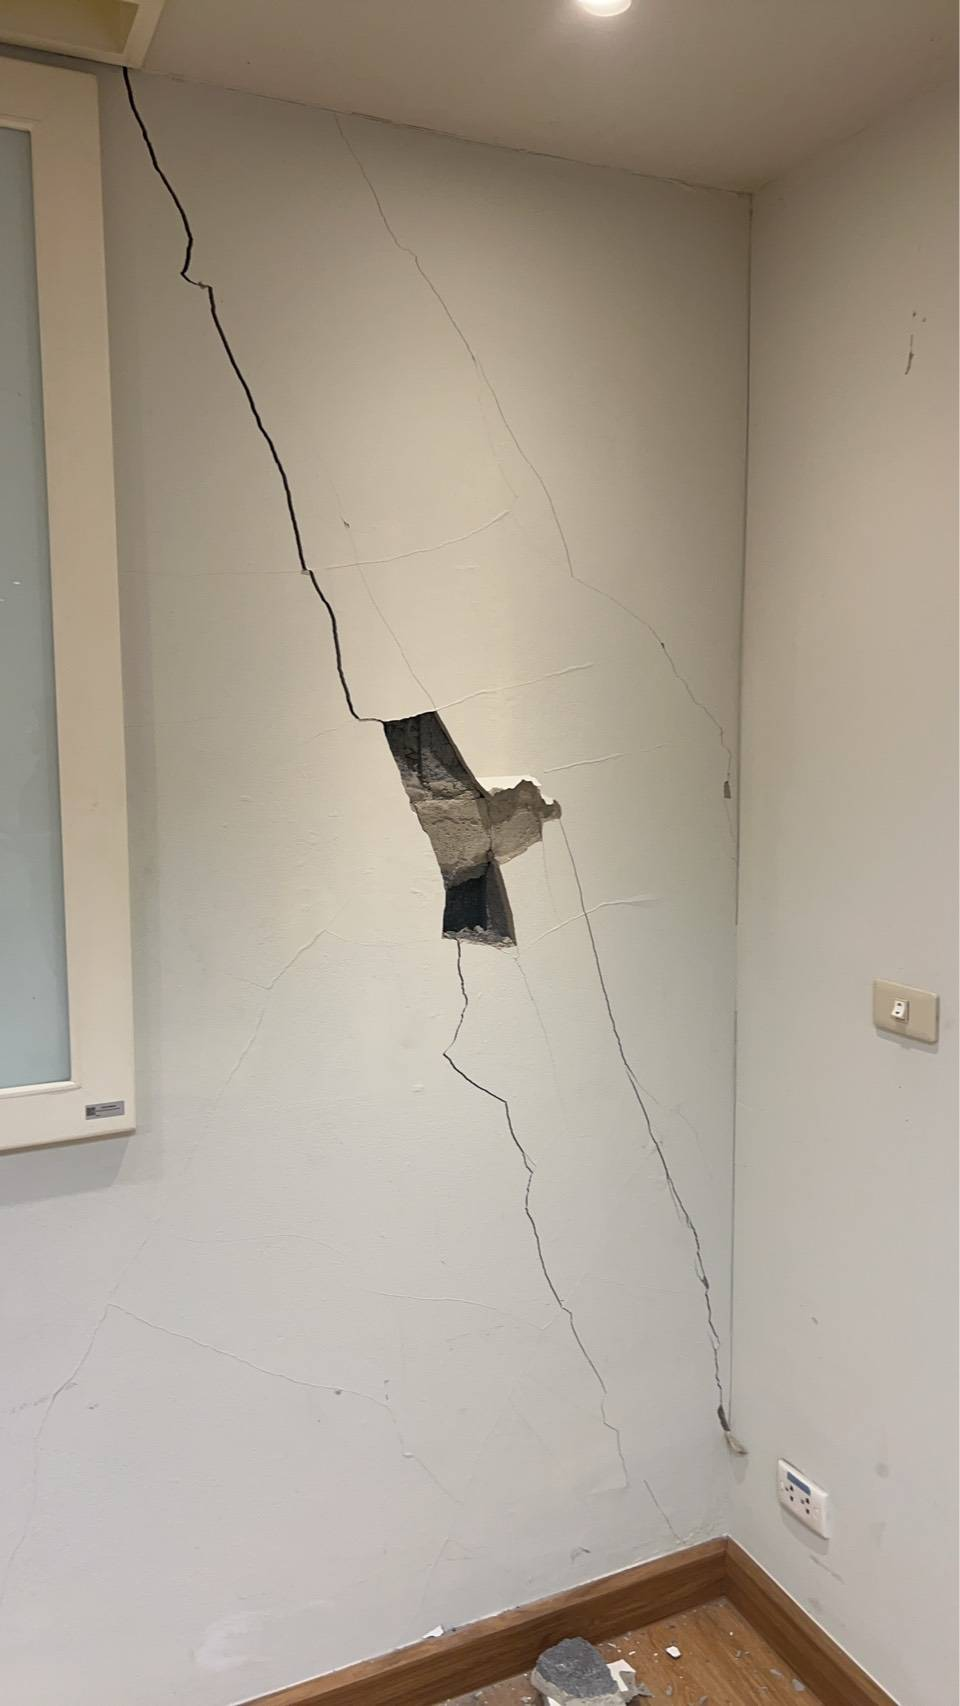High: (103, 68, 760, 1548)
